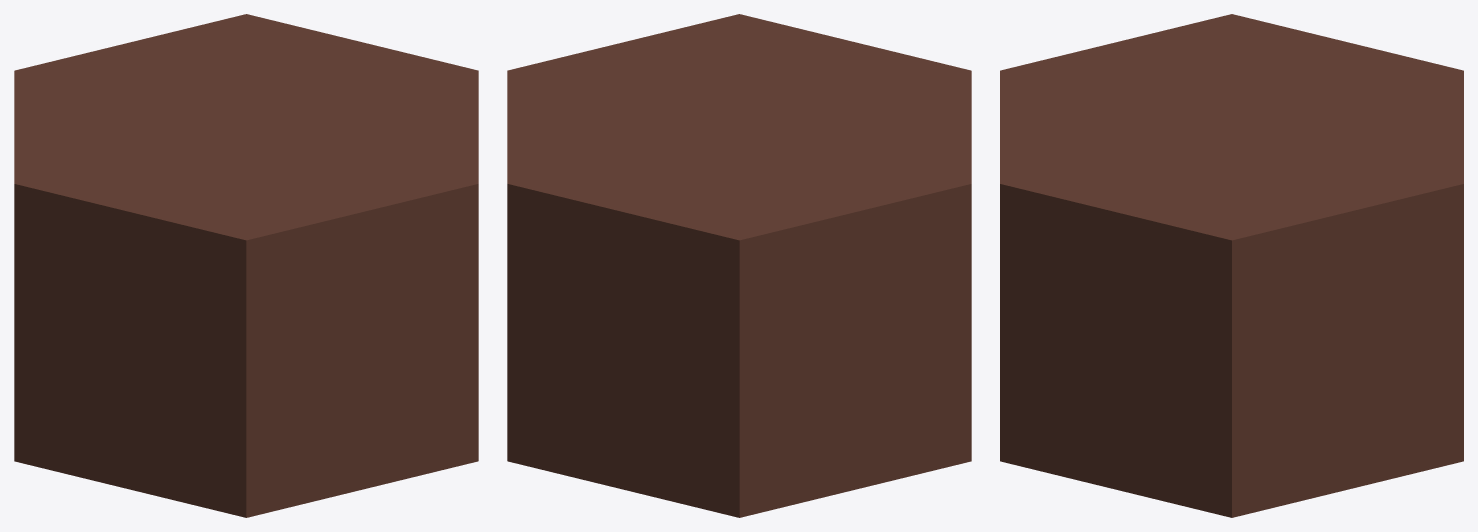
Rendered from icon_iron.obj.
3 renders of one model, left to right at view 1: azimuth 30°, elevation 25°; view 2: azimuth 150°, elevation 25°; view 3: azimuth 270°, elevation 25°, orthographic.
Size of the model in its own units: 0.14 by 0.08 by 0.1212.
